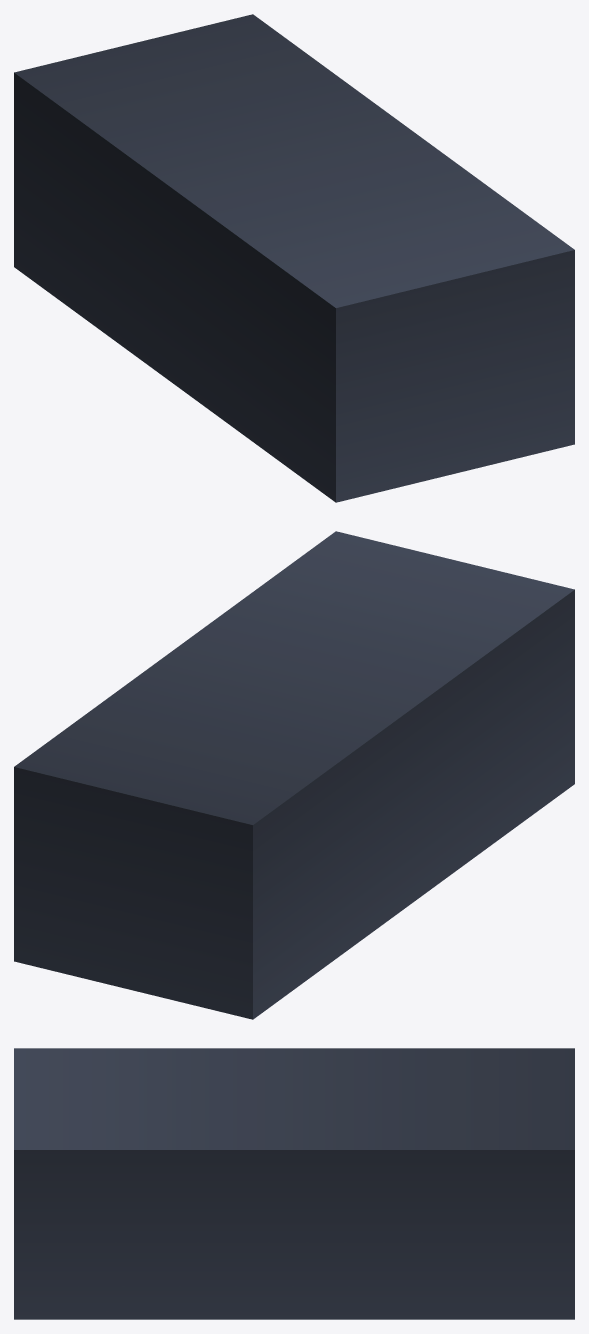
File: PRP_Coffin.glb
3 views of the same model, one above another, from view 1: azimuth 30°, elevation 25°; view 2: azimuth 150°, elevation 25°; view 3: azimuth 270°, elevation 25° (orthographic). The views are drawn at different scales.
Parts seen in each view (by area): view 1: PRP_Coffin; view 2: PRP_Coffin; view 3: PRP_Coffin.
Part boxes in pixels (<box>): PRP_Coffin: <box>14,14,574,502</box>; PRP_Coffin: <box>14,531,574,1019</box>; PRP_Coffin: <box>14,1048,574,1319</box>.
Bounding box in the file's own units: 0.9 × 0.7 × 2.1.
Materials: 1 (1 with a texture image).
